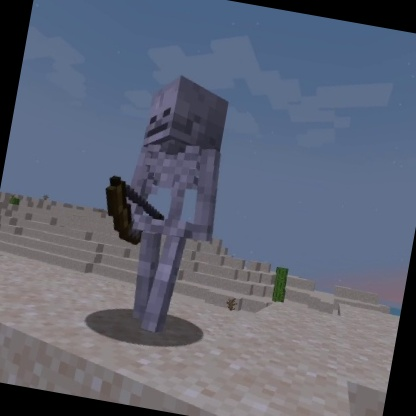skeleton: (76, 61, 245, 347)
